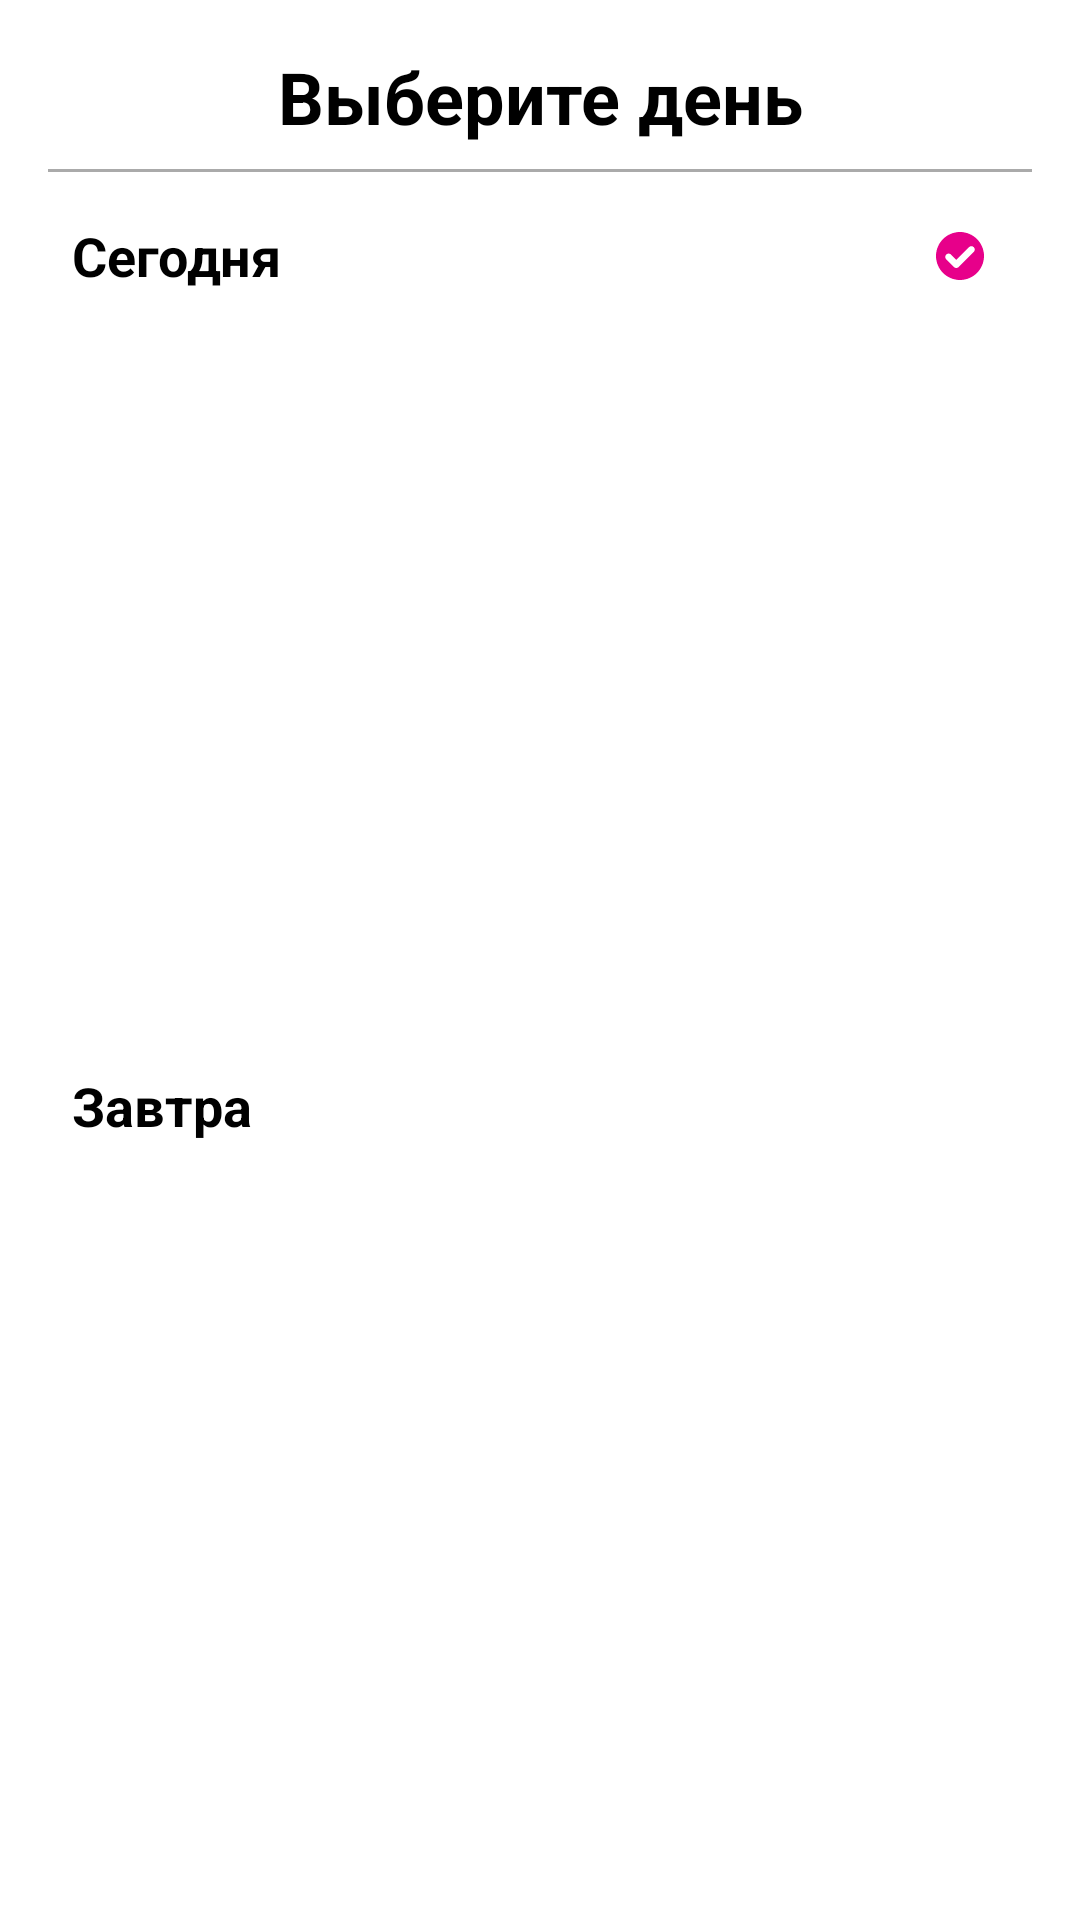

Icons on this 1080 x 1920 Android screen, each with its box as (x1, y1, x2, y2):
tick: (936, 232, 984, 280)
